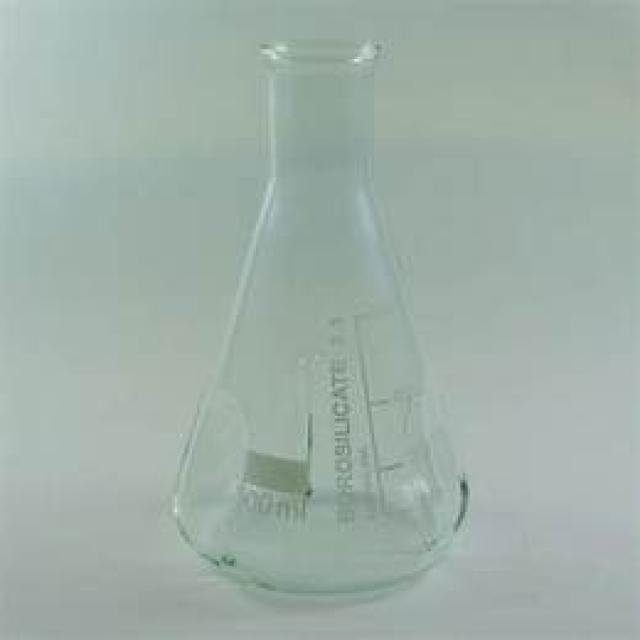Titrarion: (164, 43, 480, 601)
